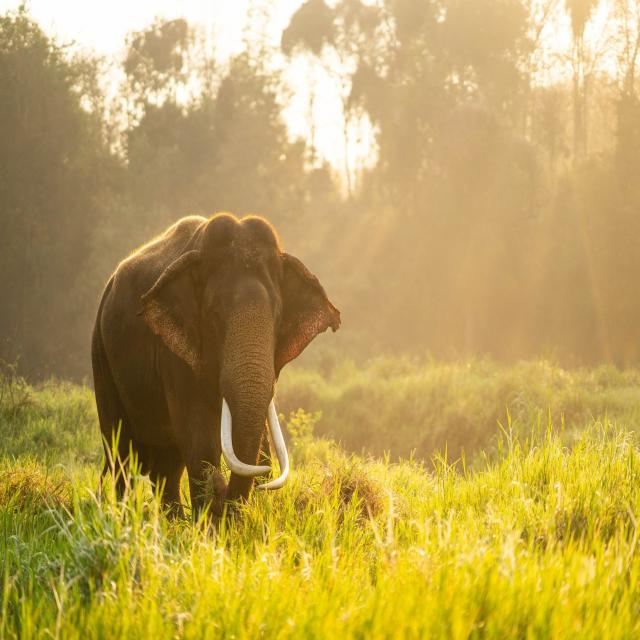Elephant: (88, 202, 328, 513)
